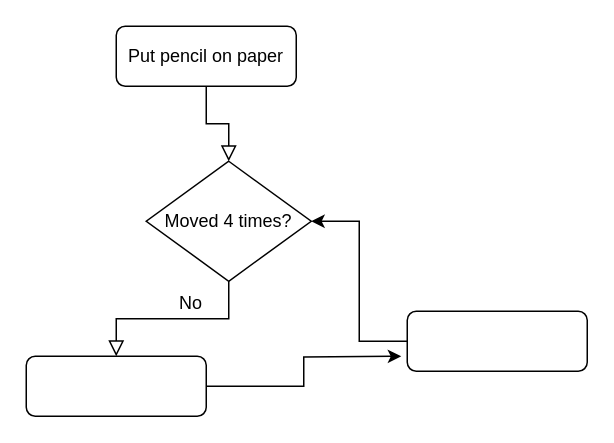
Image size: 614x443. Some labels were removed from this diagram. Here are the shapes that lost their labels. From the top down, the box of each, then its label:
(406, 310, 587, 371): Turn right
(25, 355, 206, 416): Move forward by side length
